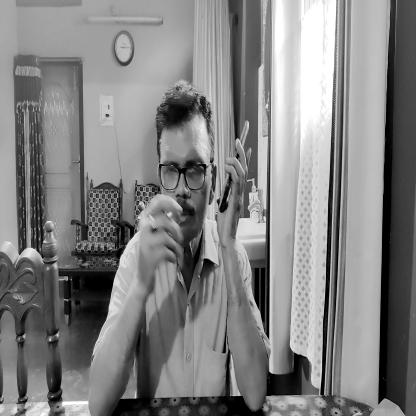Normal: (152, 82, 216, 258)
